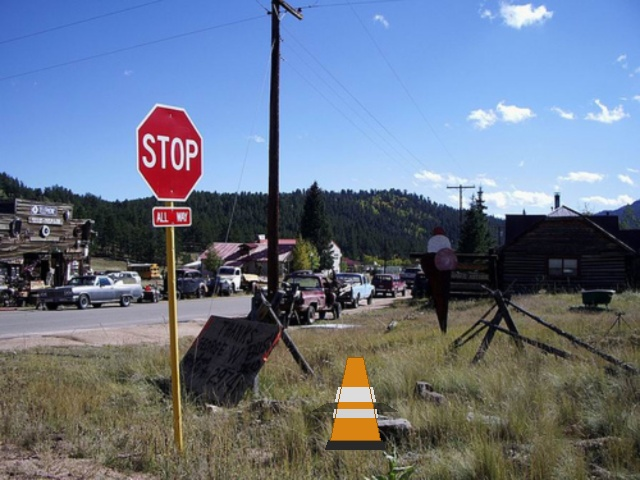traffic-cone: (325, 357, 385, 449)
